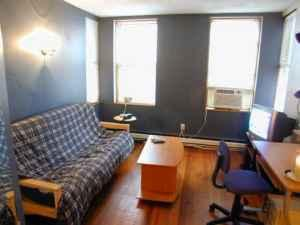Ventana: (207, 16, 260, 112), (111, 19, 160, 108)
